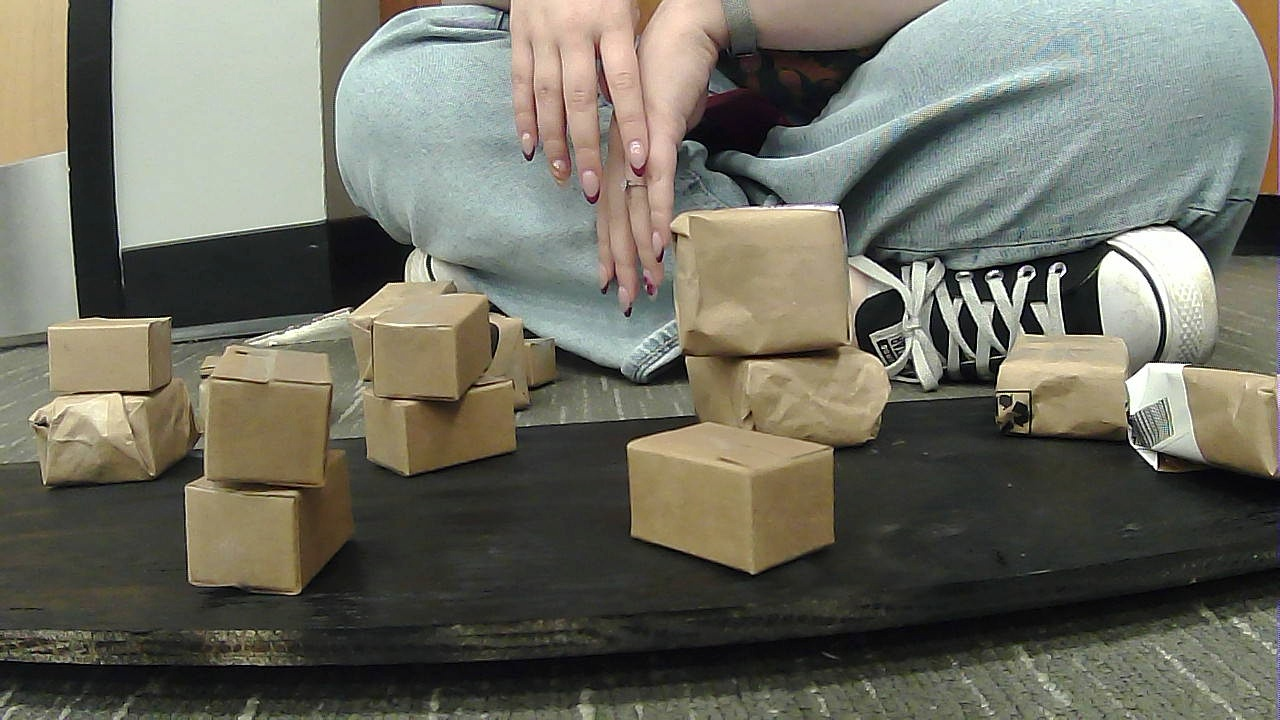stacked: (664, 216, 892, 447), (192, 344, 362, 601), (363, 303, 518, 482), (40, 318, 188, 480)
